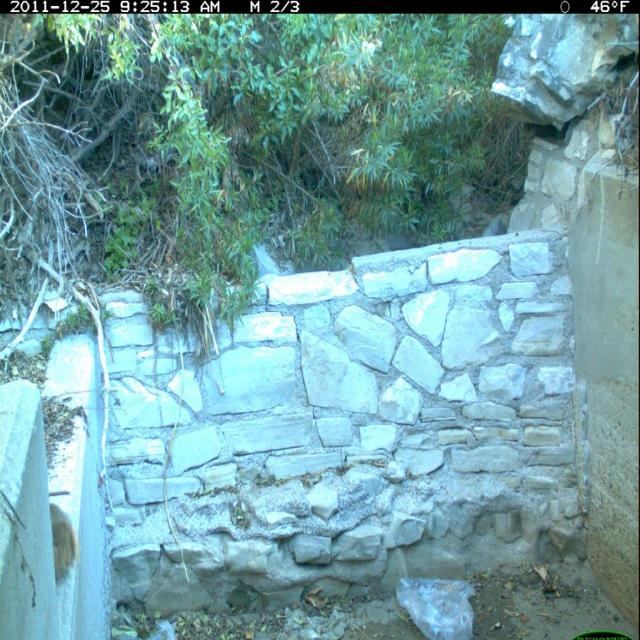squirrel: (46, 497, 85, 591)
